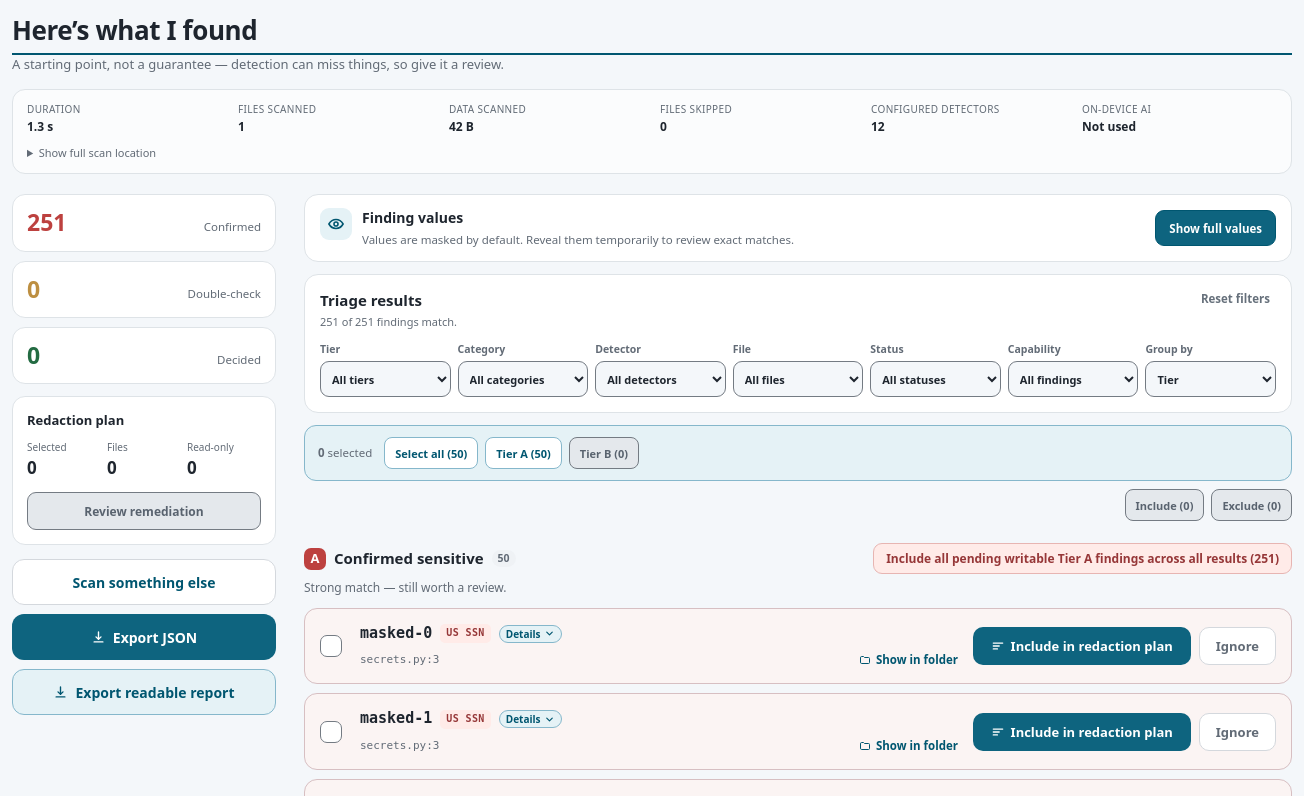
Test: ResultsScreen › reveals large result sets in bounded batches and never displays a partial response
Click the switch named "Full finding values" at (1216, 228), box 1155,210 -> 1276,246
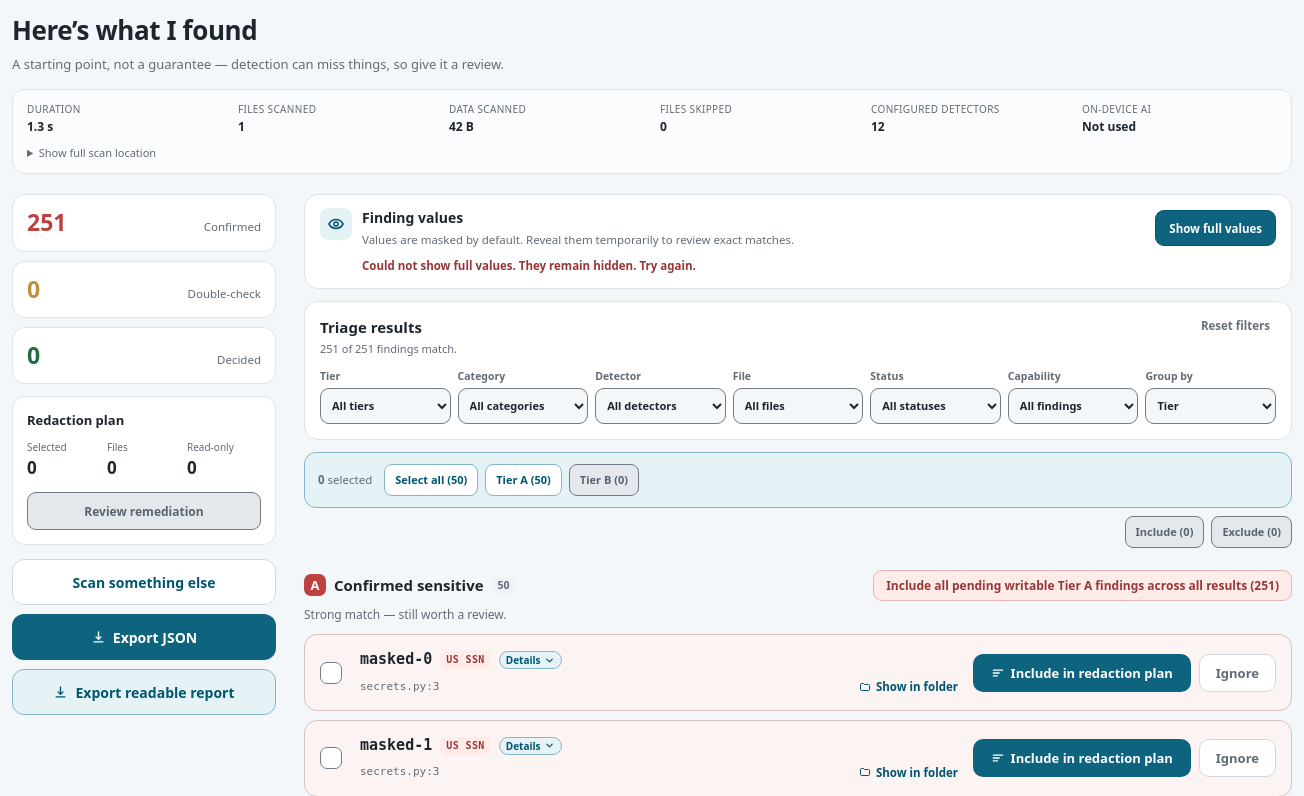
Expected: the text "masked-0" is shown, 360,649 -> 432,671
Expected: the message "Could not show full values. They remain hidden. Try again." is shown, 362,258 -> 696,273
